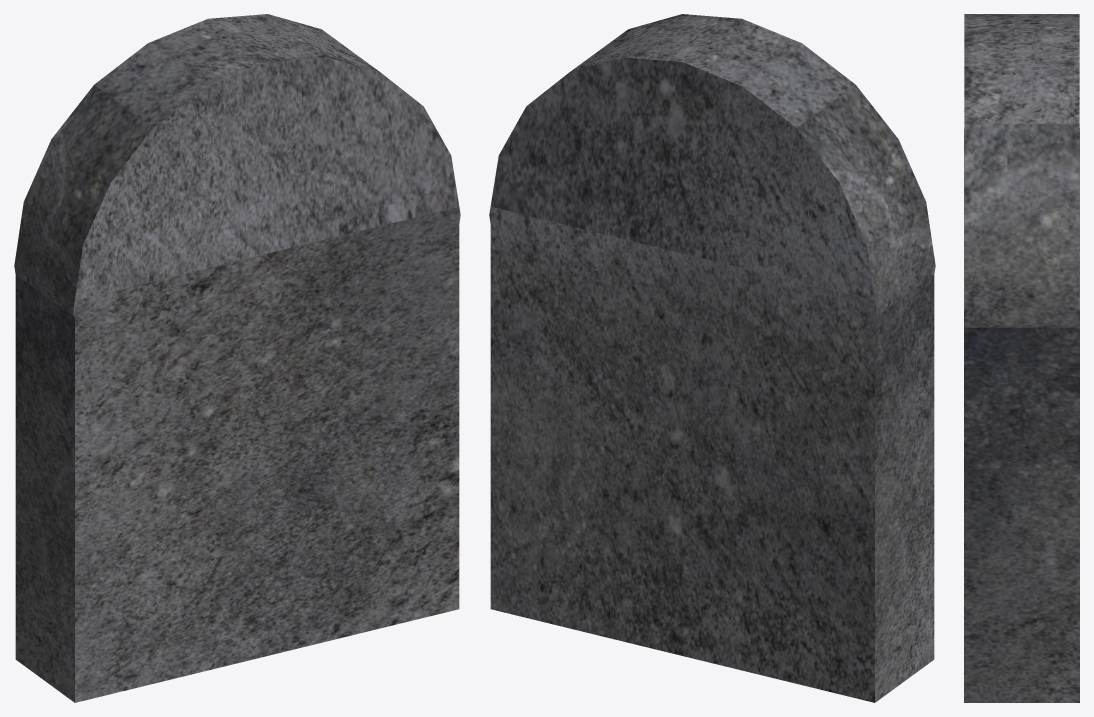
File: Blank Grave.fbx
3 renders of one model, left to right at view 1: azimuth 30°, elevation 25°; view 2: azimuth 150°, elevation 25°; view 3: azimuth 270°, elevation 25°, orthographic. The views are drawn at different scales.
Visible parts, largest first — view 1: pCylinder2; view 2: pCylinder2; view 3: pCylinder2.
Boxes of the visible parts, x1=… form: pCylinder2: x1=14, y1=14, x2=460, y2=702; pCylinder2: x1=489, y1=14, x2=935, y2=702; pCylinder2: x1=964, y1=14, x2=1079, y2=702.
Size of the model in its own units: 10.5 by 15.39 by 2.79.
Materials: 1 (1 with a texture image).
